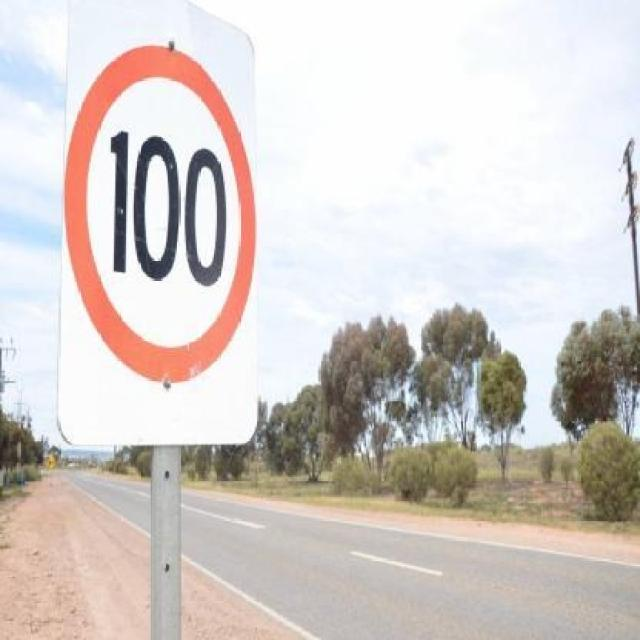forb_speed_over_100: (70, 46, 252, 383)
